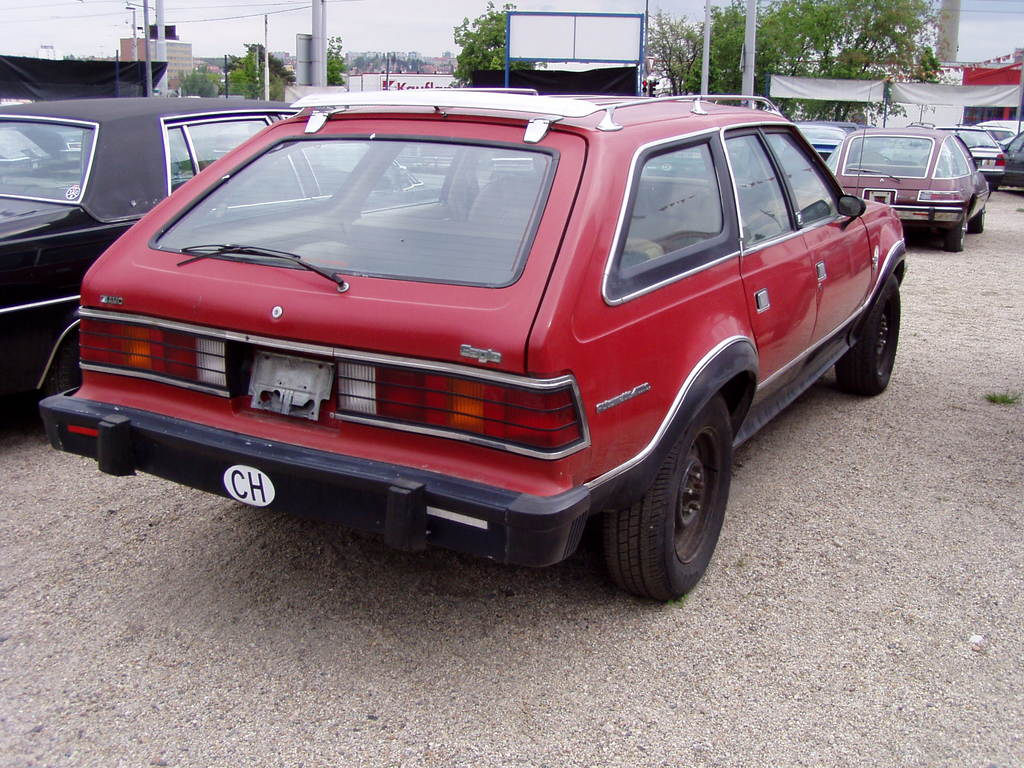Car: (28, 80, 908, 607), (0, 94, 487, 407), (820, 125, 991, 253), (926, 124, 1007, 184), (794, 119, 847, 158), (997, 126, 1023, 191), (981, 124, 1015, 145)
